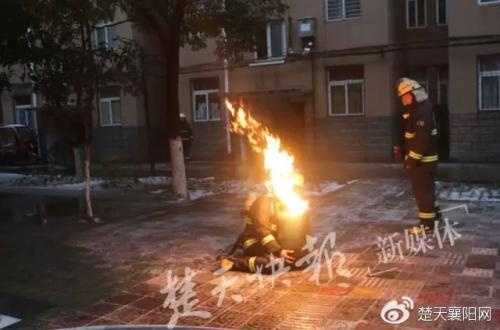fire: (226, 97, 310, 219)
